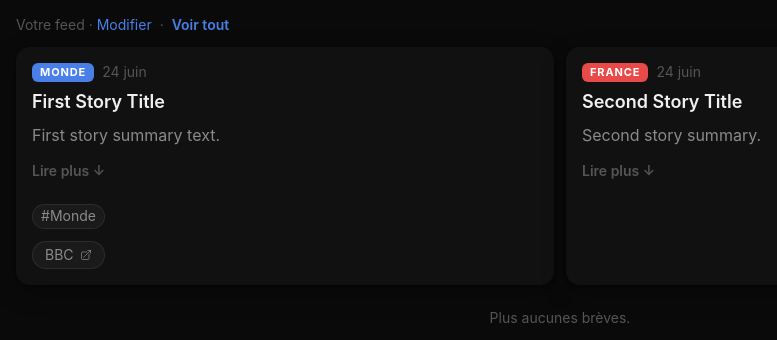
Test: FeedPage › hides banner and passes null to useFeed after clicking "Voir tout"
The image size is (777, 340).
Click the button "Voir tout": [200, 25] box [172,16,229,35]
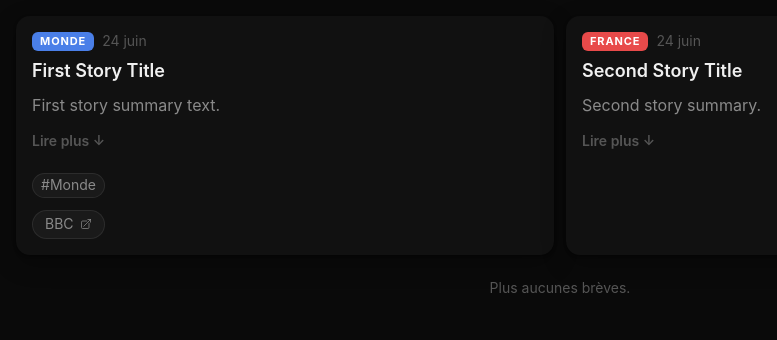
Expected: the element with id "feed-page__banner--personalized" is gone
